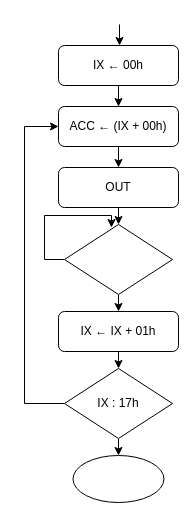
Image size: 196x520. Some labels were removed from this diagram. The shapes that lost their labels are listed below. From the top down, each one's centre as x and y in pixels, then its label:
the point at 118,259: OBUF_FLG_IN = 1
the point at 118,478: STOP
